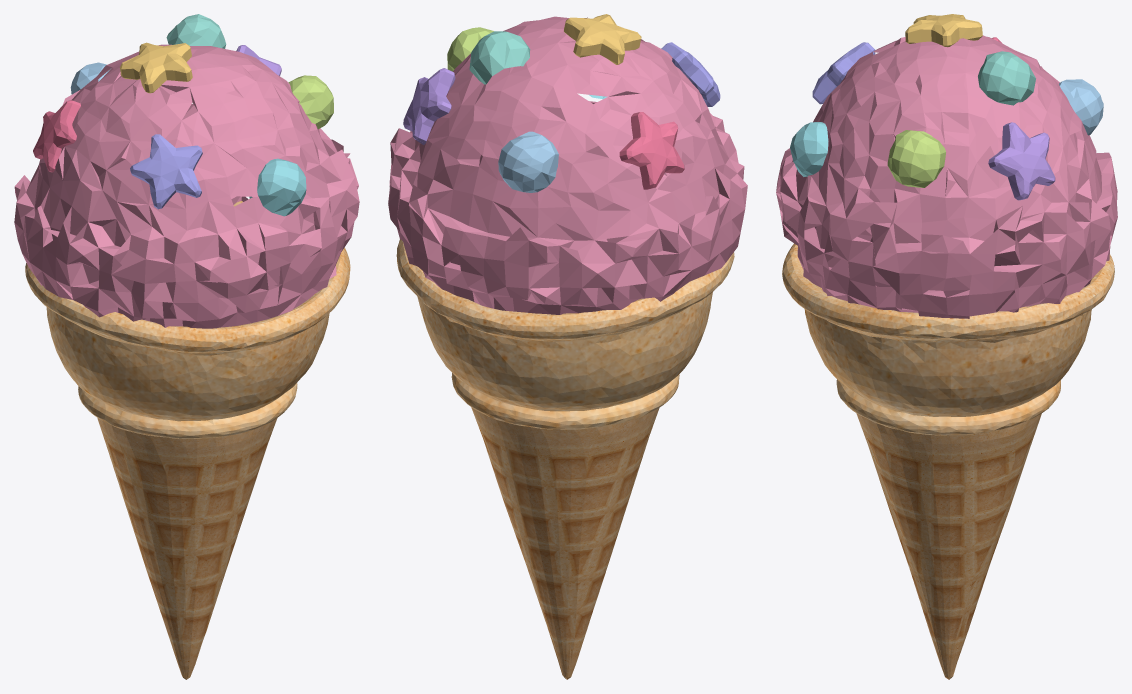
The model's file is IcecreamPower.glb.
3 renders of one model, left to right at view 1: azimuth 30°, elevation 25°; view 2: azimuth 150°, elevation 25°; view 3: azimuth 270°, elevation 25°, orthographic. The views are drawn at different scales.
Visible parts, largest first — view 1: ICECREAM_STRAWBERRY_SCOOP, mesh_node.001_f6db42, mesh_node.001_c6e659, Gems.002, Gems.001, Gems.006, Gems.007, Gems.003, Gems.005, Gems.008; view 2: ICECREAM_STRAWBERRY_SCOOP, mesh_node.001_f6db42, mesh_node.001_c6e659, Gems.007, Gems.008, Gems.001, Gems.004, Gems.005, Gems.002, Gems.003; view 3: ICECREAM_STRAWBERRY_SCOOP, mesh_node.001_f6db42, mesh_node.001_c6e659, Gems.004, Gems.003, Gems.005, Gems.001, Gems.006, Gems.008, Gems.002.
Boxes of the visible parts, box(x1,y1,x2,y2) form: ICECREAM_STRAWBERRY_SCOOP: box(14, 44, 359, 328); mesh_node.001_f6db42: box(25, 201, 350, 438); mesh_node.001_c6e659: box(97, 418, 277, 679); Gems.002: box(130, 134, 202, 209); Gems.001: box(119, 42, 192, 93); Gems.006: box(249, 158, 306, 216); Gems.007: box(33, 100, 80, 172); Gems.003: box(288, 75, 333, 129); Gems.005: box(166, 14, 226, 48); Gems.008: box(70, 62, 110, 94); ICECREAM_STRAWBERRY_SCOOP: box(388, 16, 747, 314); mesh_node.001_f6db42: box(396, 239, 734, 429); mesh_node.001_c6e659: box(471, 407, 659, 679); Gems.007: box(619, 112, 684, 189); Gems.008: box(498, 131, 558, 192); Gems.001: box(564, 14, 641, 64); Gems.004: box(403, 68, 455, 144); Gems.005: box(469, 31, 530, 84); Gems.002: box(661, 42, 720, 106); Gems.003: box(447, 27, 493, 71); ICECREAM_STRAWBERRY_SCOOP: box(776, 35, 1117, 318); mesh_node.001_f6db42: box(782, 243, 1114, 435); mesh_node.001_c6e659: box(856, 413, 1041, 679); Gems.004: box(988, 122, 1055, 200); Gems.003: box(887, 130, 945, 187); Gems.005: box(978, 51, 1035, 105); Gems.001: box(905, 14, 982, 47); Gems.006: box(790, 122, 828, 176); Gems.008: box(1059, 79, 1103, 135); Gems.002: box(812, 42, 875, 104).
Size of the model in its own units: 0.7603 by 1.51 by 0.7201.
Materials: 11 (2 with a texture image).
